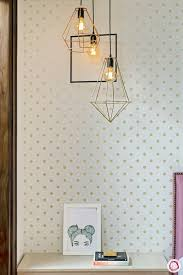bulb: (102, 60, 119, 84), (86, 38, 101, 65), (73, 11, 87, 39)
